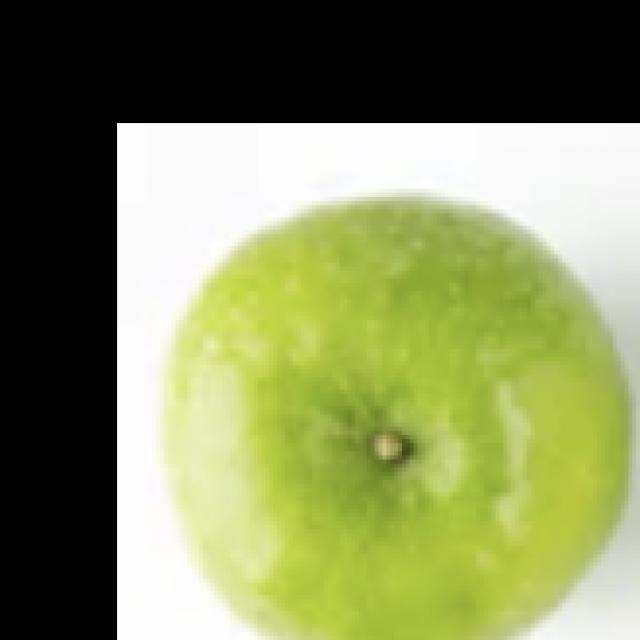Fresh Apple: (173, 198, 632, 637)
